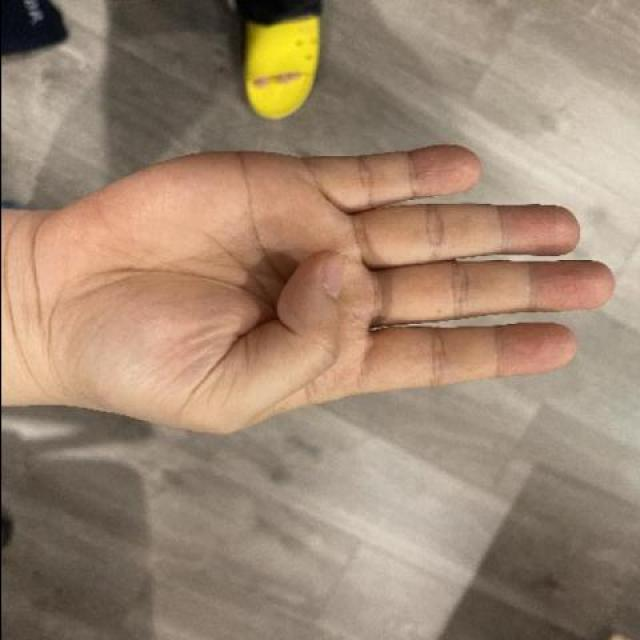Open Hand: (0, 137, 613, 438)
